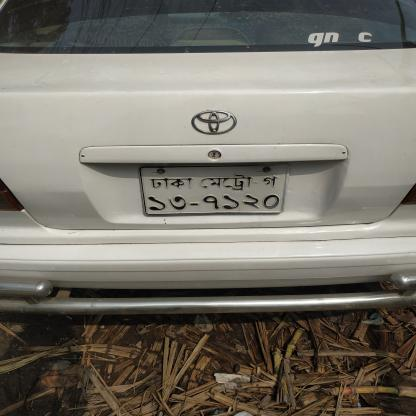license_plate: (102, 132, 381, 276)
